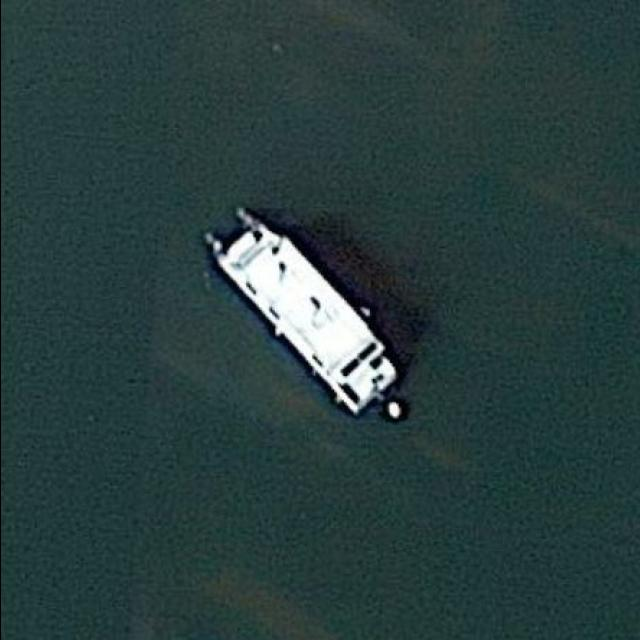ship: (200, 200, 400, 422)
